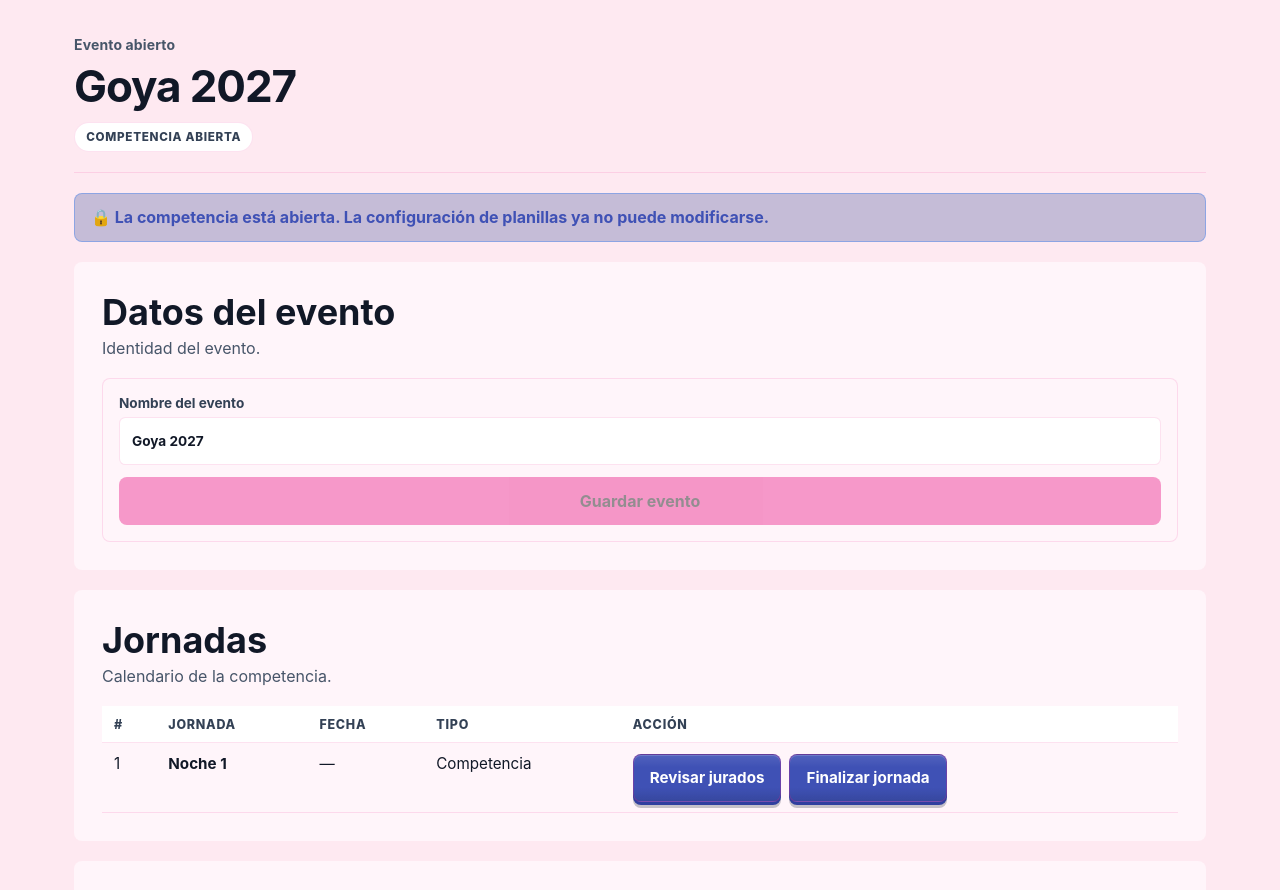
Test: ADMIN conserva Finalizar jornada y su modal existente
Click the button with aria-label "Finalizar jornada Noche 1".
click(868, 778)  # box [790,754,947,802]
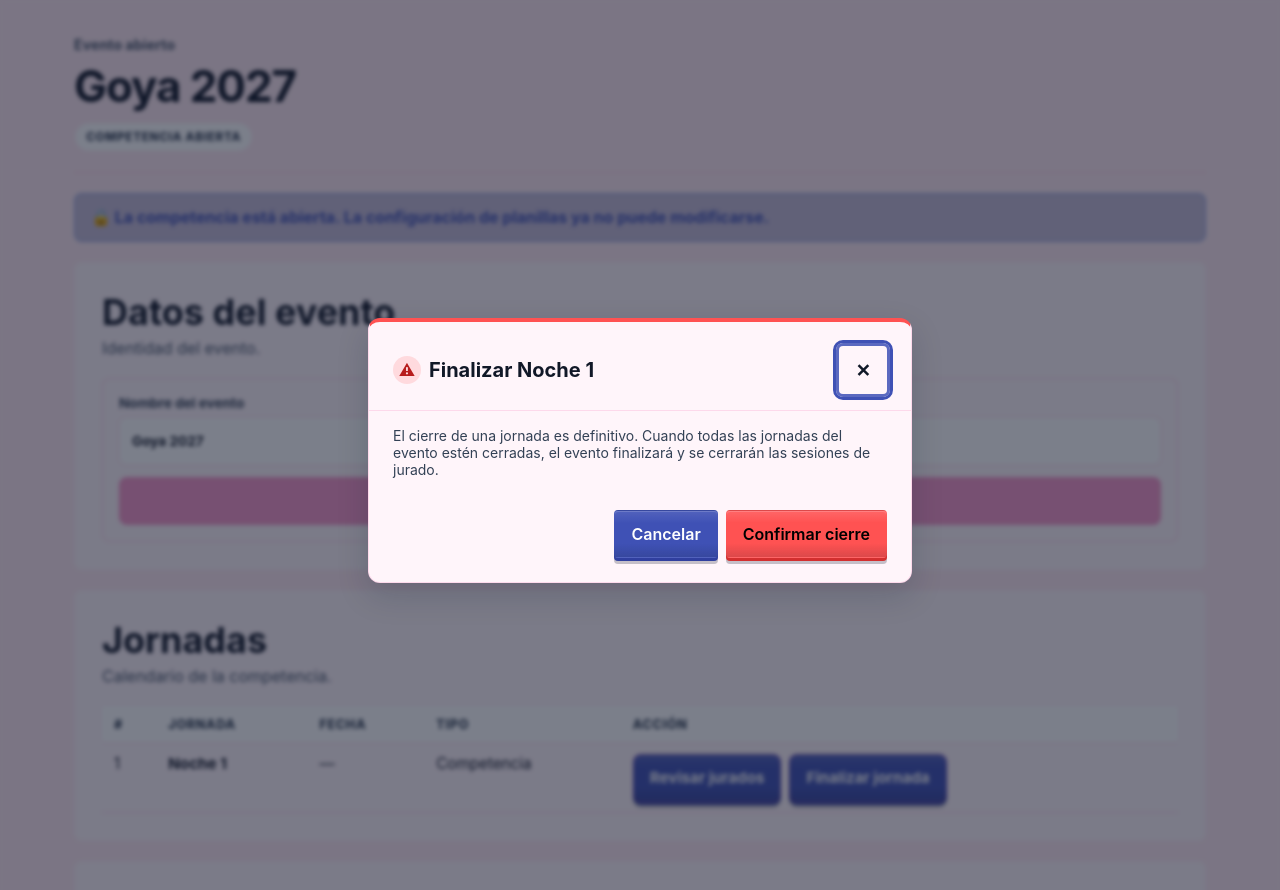
Check: the dialog "Finalizar Noche 1" is shown, box [368,318,912,582]
